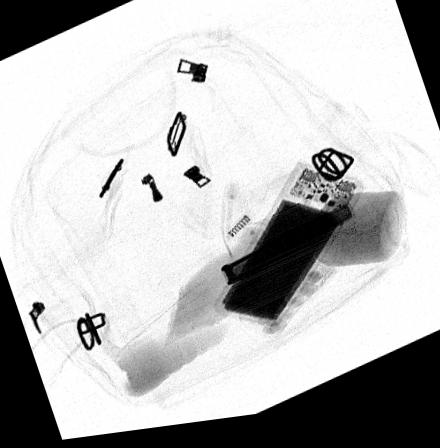Powerbank: (214, 171, 362, 333)
